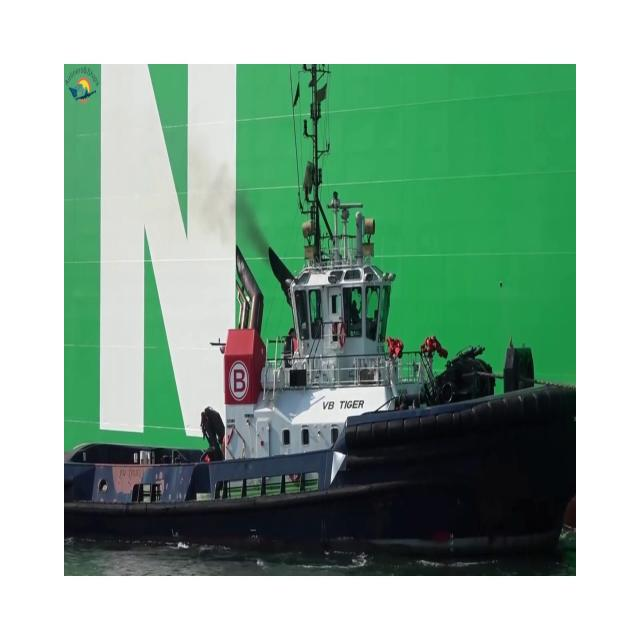OCR: (96, 63, 255, 464)
